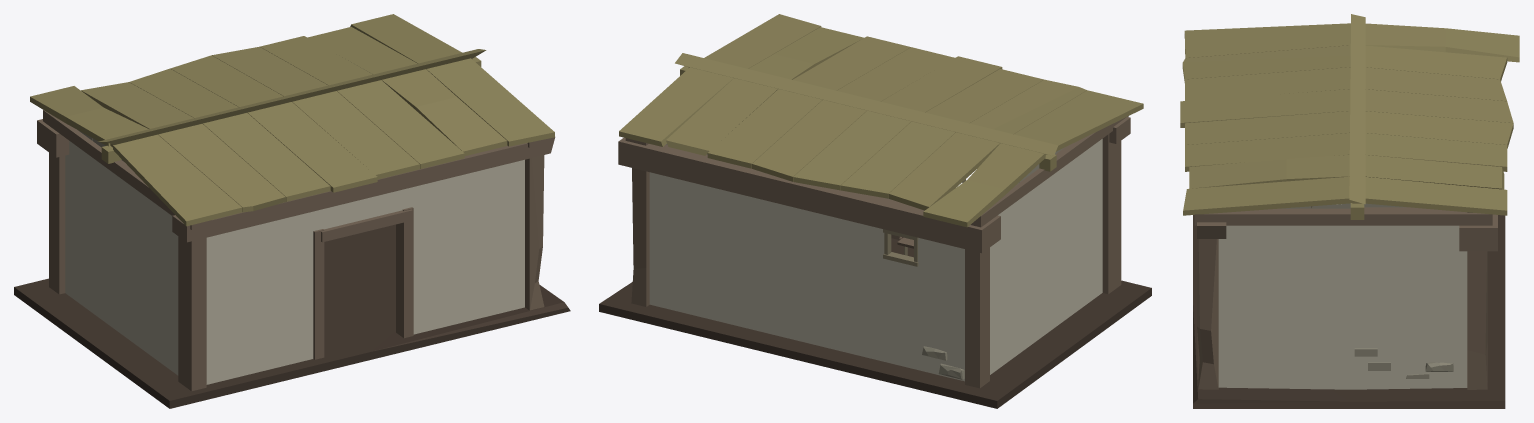
File: 仓库房.fbx
The picture shows the model from 3 angles, left to right: view 1: azimuth 30°, elevation 25°; view 2: azimuth 150°, elevation 25°; view 3: azimuth 270°, elevation 25°; orthographic projection.
Visible parts, largest first — view 1: 单间房_polySurface2446; view 2: 单间房_polySurface2446; view 3: 单间房_polySurface2446.
Part boxes in pixels (bbox=[...]): 单间房_polySurface2446: bbox=[14, 14, 570, 408]; 单间房_polySurface2446: bbox=[599, 14, 1151, 408]; 单间房_polySurface2446: bbox=[1180, 14, 1519, 408].
Size of the model in its own units: 937 by 459 by 685.
